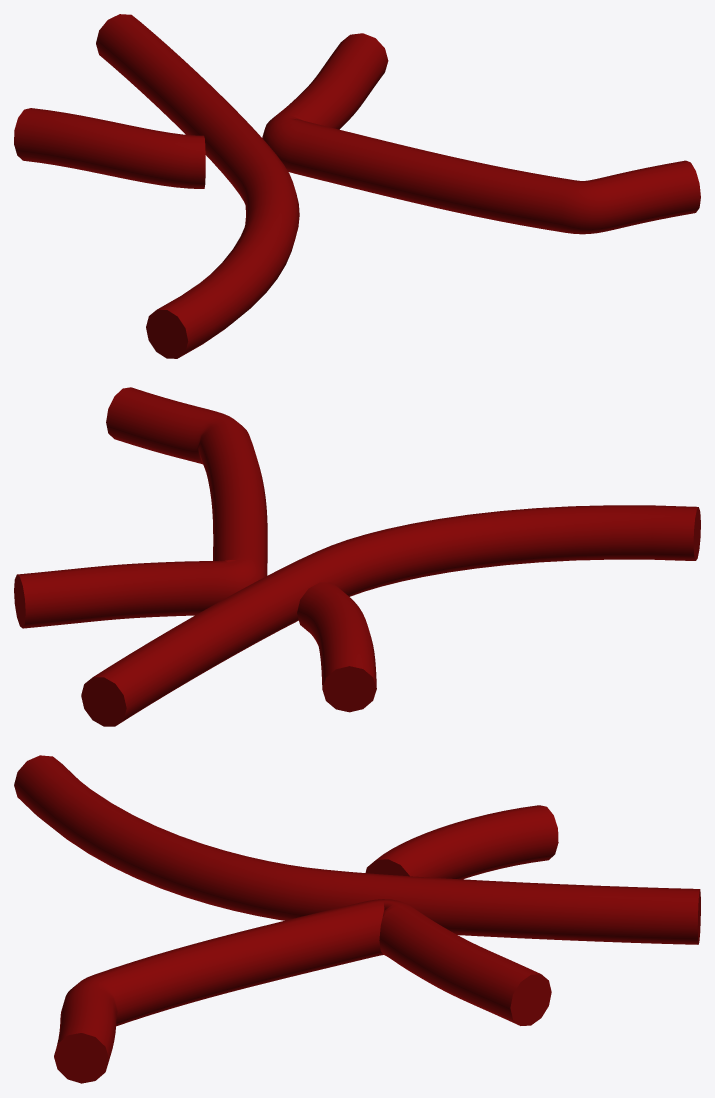
File: coba.fbx
3 renders of one model, top to bottom at view 1: azimuth 30°, elevation 25°; view 2: azimuth 150°, elevation 25°; view 3: azimuth 270°, elevation 25°, orthographic. The views are drawn at different scales.
Parts seen in each view (by area): view 1: BézierCurve.012, BézierCurve.011, BézierCurve.010; view 2: BézierCurve.011, BézierCurve.012, BézierCurve.010; view 3: BézierCurve.011, BézierCurve.012, BézierCurve.010.
Part boxes in pixels (<box>): BézierCurve.012: <box>262,33,700,234</box>; BézierCurve.011: <box>96,14,299,358</box>; BézierCurve.010: <box>14,108,205,188</box>; BézierCurve.011: <box>81,505,700,726</box>; BézierCurve.012: <box>14,387,267,628</box>; BézierCurve.010: <box>297,582,376,712</box>; BézierCurve.011: <box>14,755,700,944</box>; BézierCurve.012: <box>54,899,551,1083</box>; BézierCurve.010: <box>365,805,558,879</box>.
Bounding box in the file's own units: 71.93 × 6.54 × 73.51.
